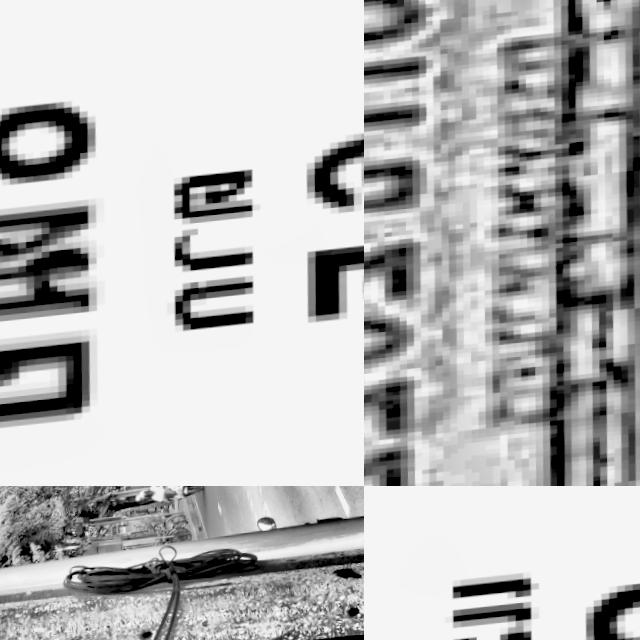license-plate: (0, 0, 364, 486), (364, 0, 640, 486), (364, 486, 640, 640)
